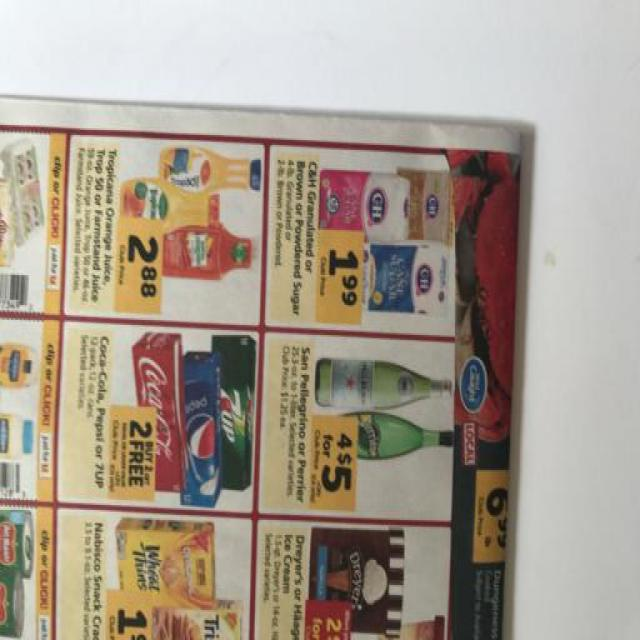paper: (1, 80, 583, 640)
